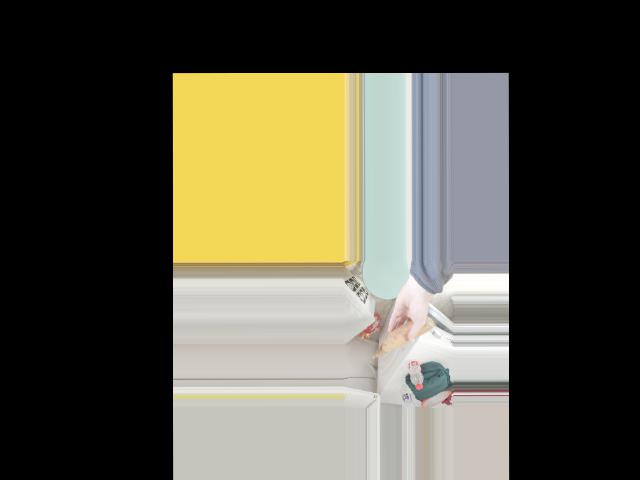sweet_potato: (386, 320, 420, 353)
